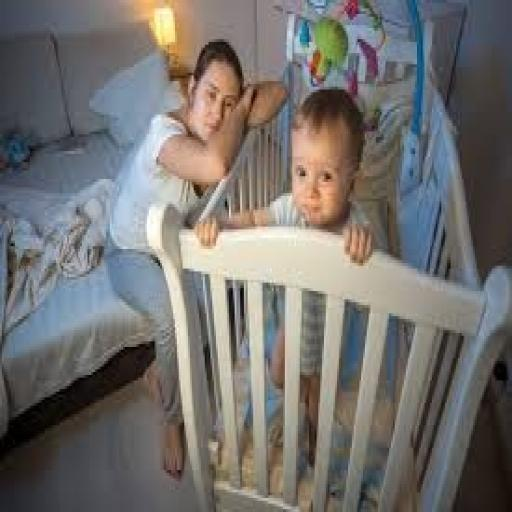baby: (196, 87, 374, 262)
crib: (149, 90, 511, 511)
